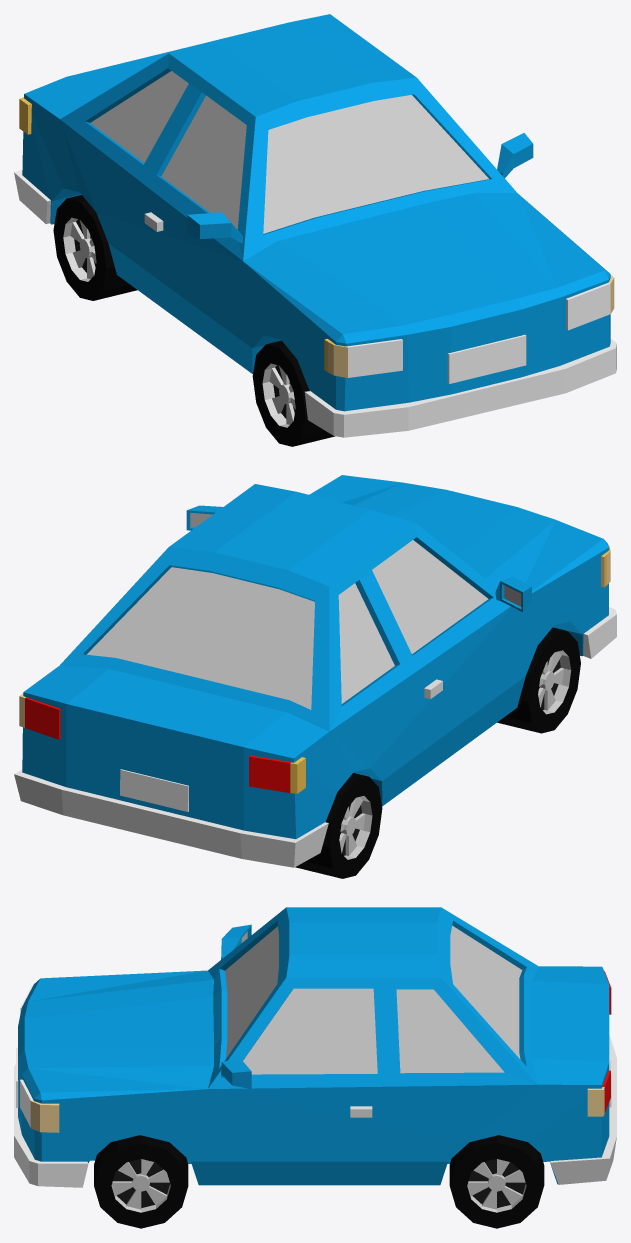
The model's file is Car-01-A.fbx.
3 views of the same model, one above another, from view 1: azimuth 30°, elevation 25°; view 2: azimuth 150°, elevation 25°; view 3: azimuth 270°, elevation 25° (orthographic). The views are drawn at different scales.
Parts seen in each view (by area): view 1: Car-01, BR, FR, High-Beam, Light-Right; view 2: Car-01, BR, FR, Break-Light; view 3: Car-01, BL, FL, Light-Left.
Boxes of the visible parts, x1,y1,x2,y2 form: Car-01: (14, 14, 616, 437); BR: (53, 195, 137, 300); FR: (252, 340, 334, 446); High-Beam: (346, 282, 610, 377); Light-Right: (326, 339, 347, 377); Car-01: (14, 475, 616, 867); BR: (295, 773, 382, 878); FR: (497, 627, 580, 733); Break-Light: (25, 697, 290, 792); Car-01: (14, 907, 616, 1187); BL: (449, 1135, 544, 1228); FL: (94, 1135, 188, 1228); Light-Left: (30, 1087, 604, 1132).
Size of the model in its own units: 2.45 by 1.79 by 4.26.
